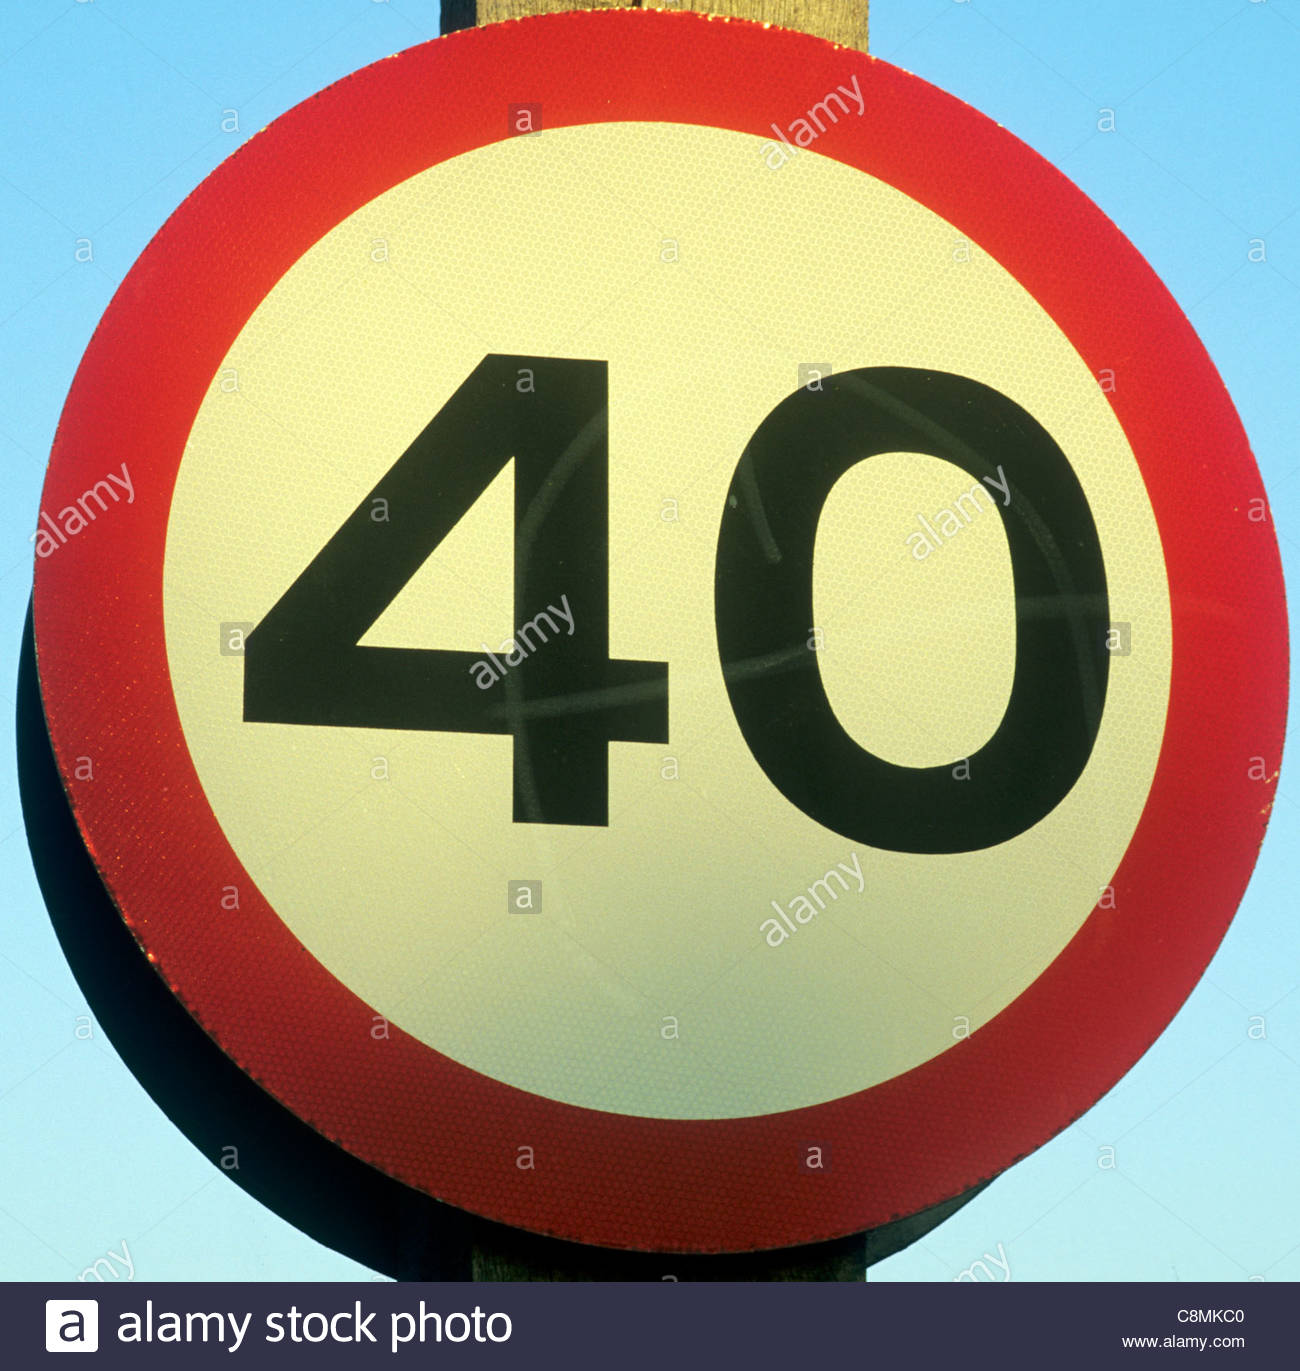Speed_limit_40km: (23, 10, 1291, 1256)
